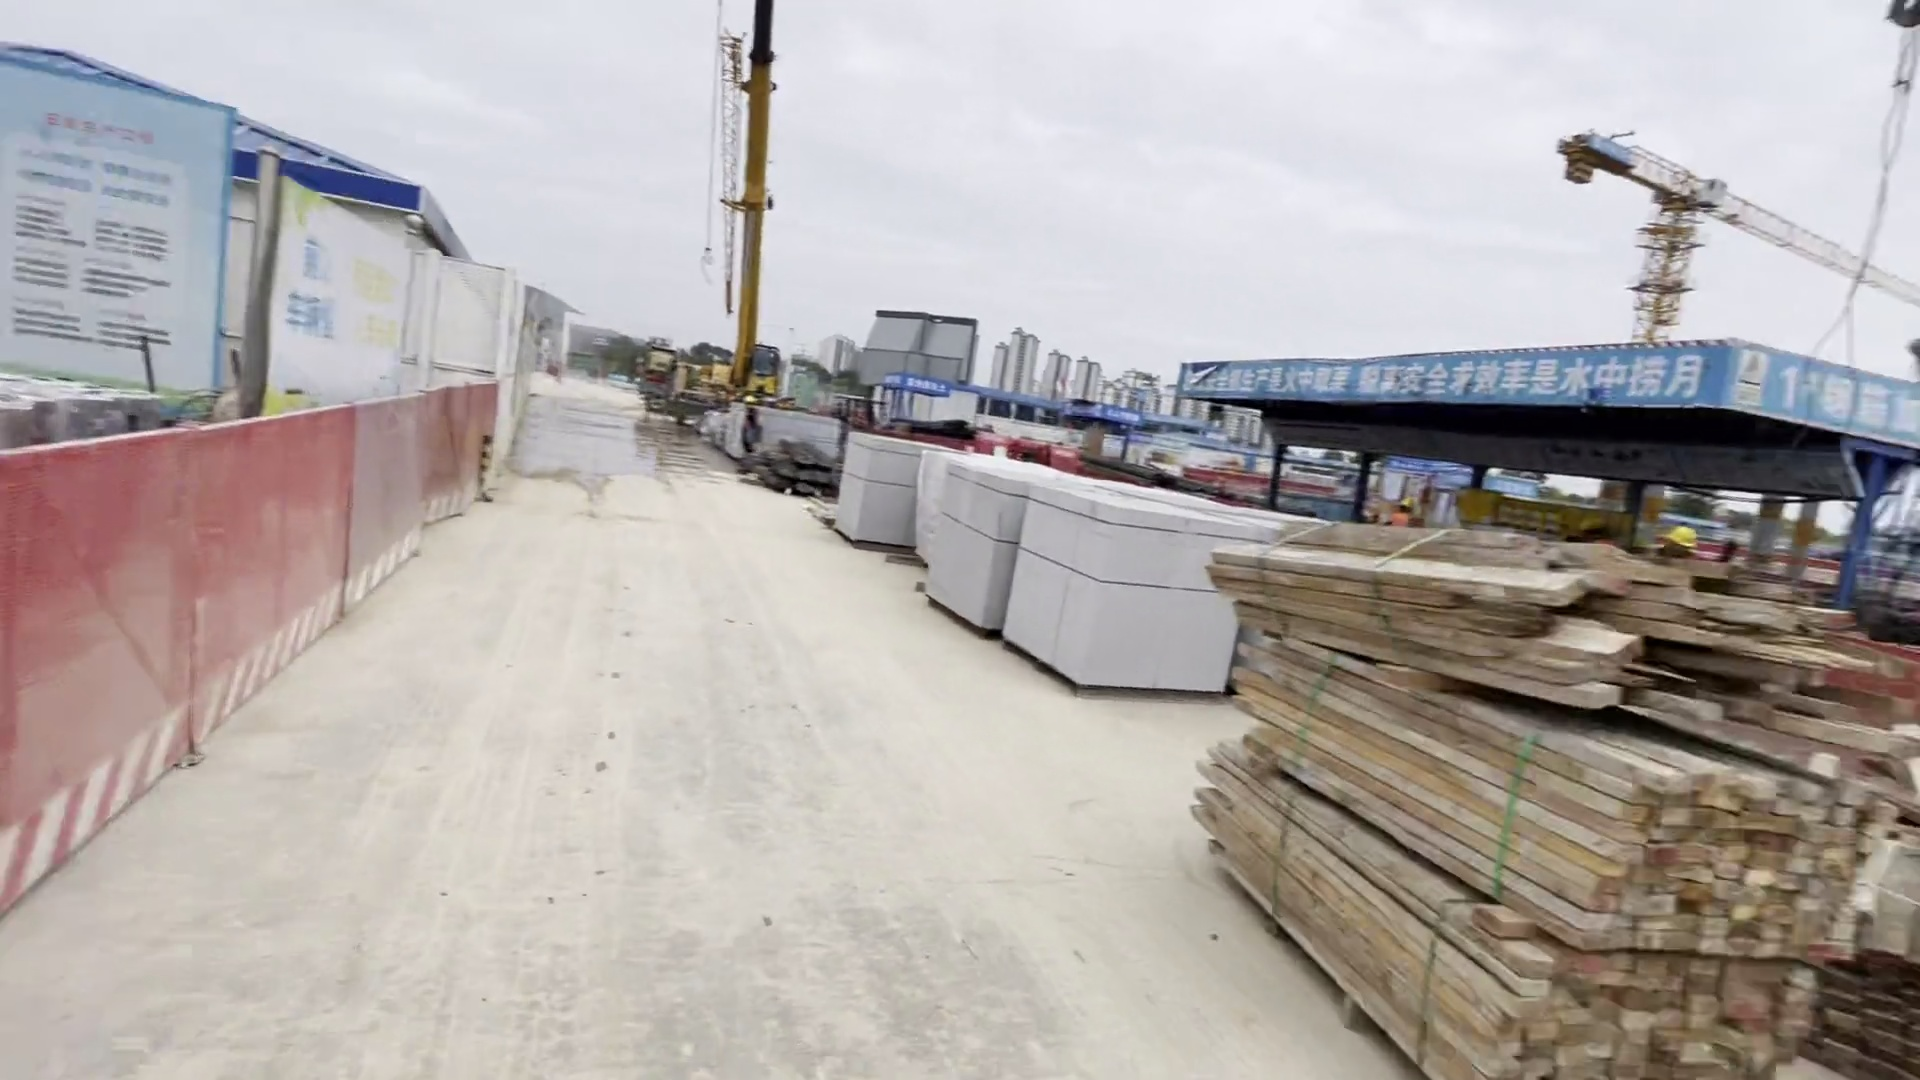brick: (913, 446, 1236, 713), (837, 435, 920, 553)
helmet: (1665, 520, 1702, 556)
slogan: (1182, 351, 1920, 443)
wood: (1188, 514, 1876, 1080)
